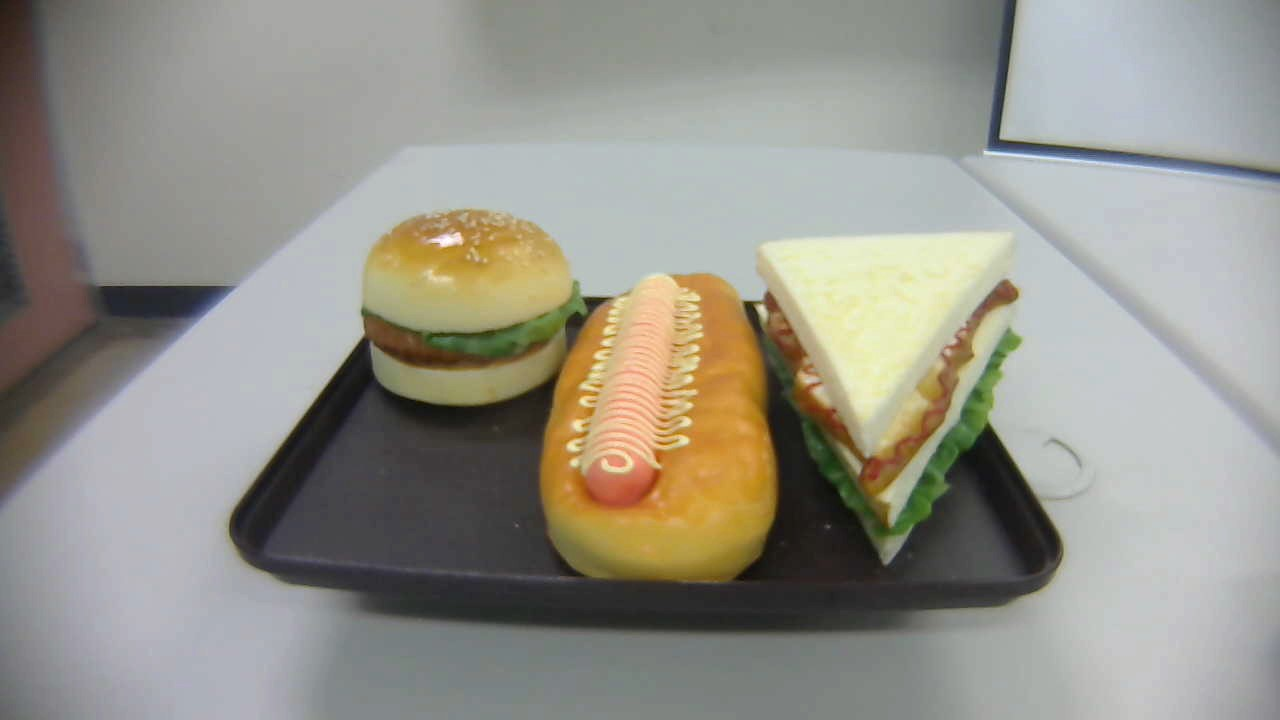hamburger: (361, 208, 584, 405)
hot dog: (540, 274, 776, 589)
sandwich: (755, 231, 1021, 563)
